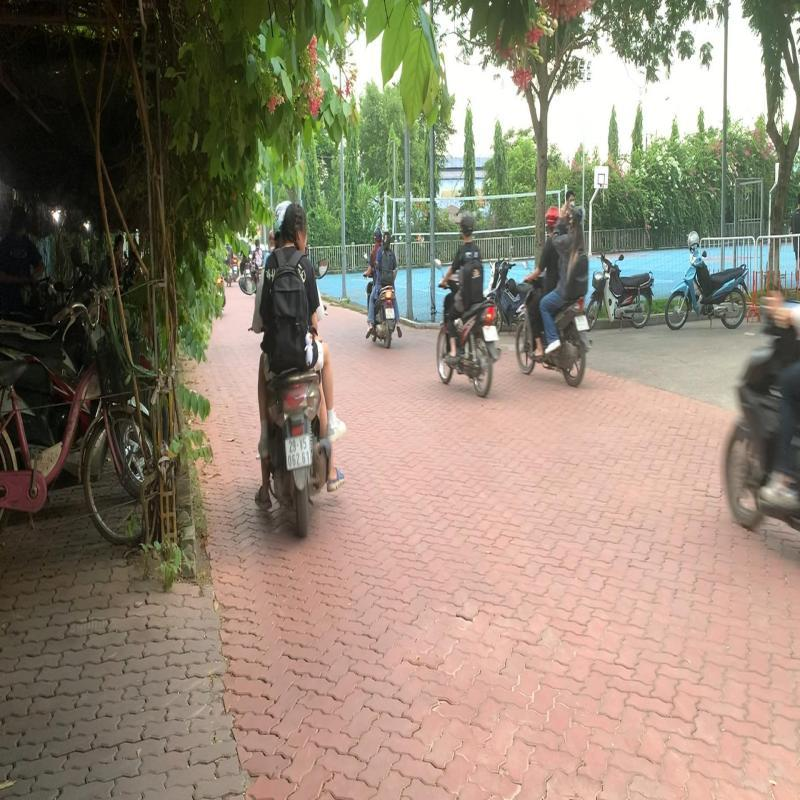nohelmet: (279, 199, 308, 250)
